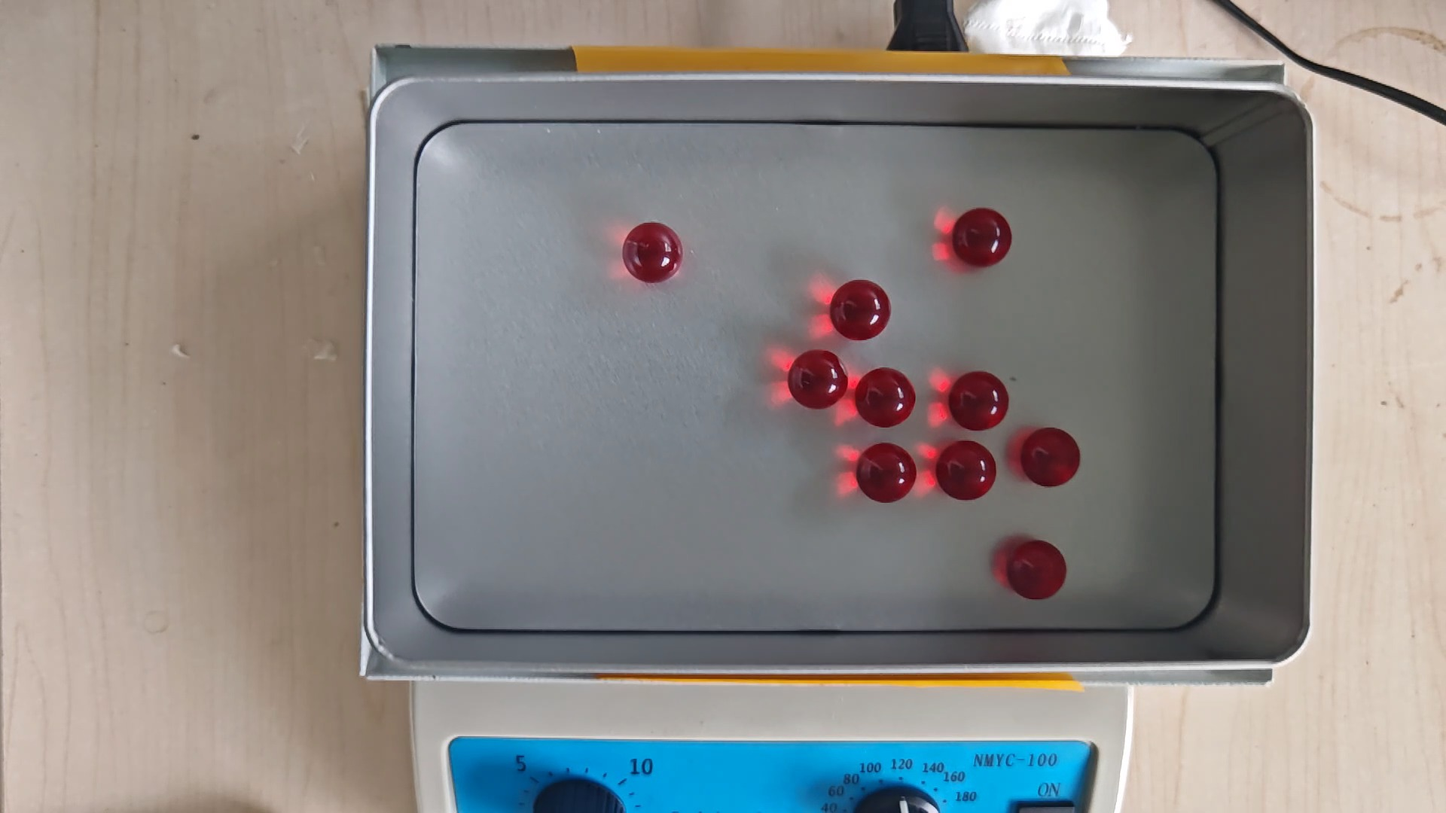ball: (623, 221, 684, 284), (830, 279, 891, 341), (936, 440, 996, 502), (857, 442, 917, 504), (1021, 426, 1081, 488), (950, 370, 1009, 432), (856, 368, 916, 428), (1008, 540, 1068, 600), (788, 349, 847, 410), (953, 207, 1012, 267)
container: (412, 123, 1218, 632)
